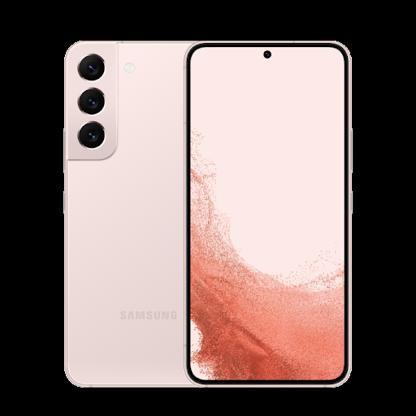not trash: (67, 37, 353, 386), (179, 39, 350, 383)
